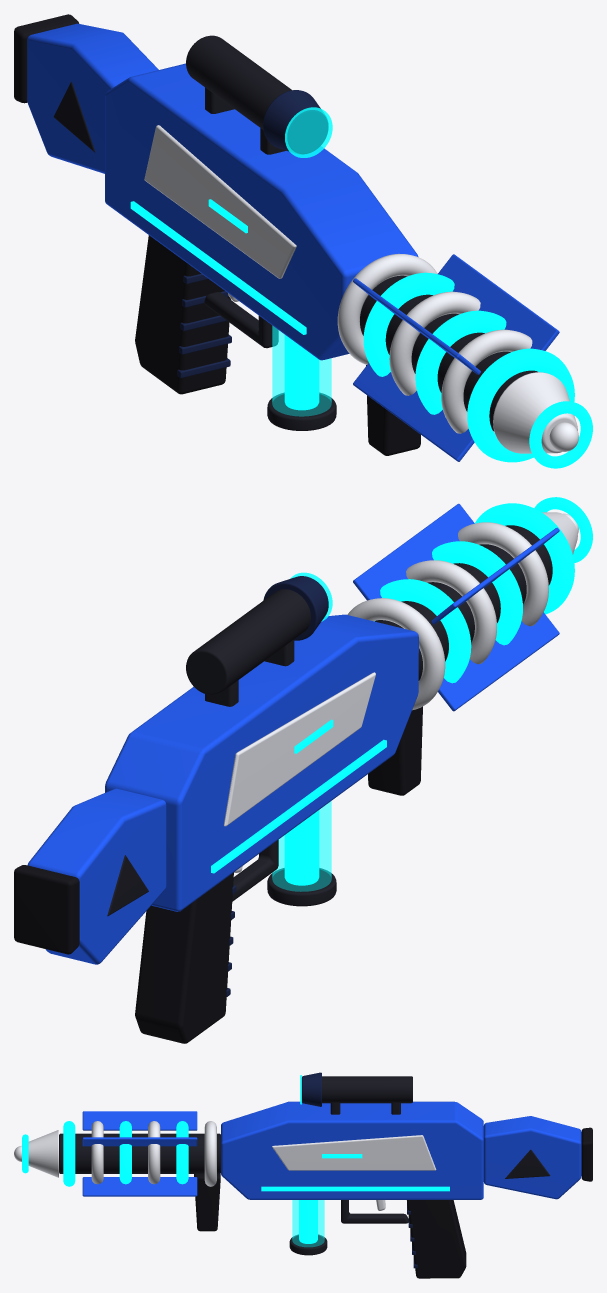
The model's file is SpaceShotgun.fbx.
3 renders of one model, top to bottom at view 1: azimuth 30°, elevation 25°; view 2: azimuth 150°, elevation 25°; view 3: azimuth 270°, elevation 25°, orthographic. The views are drawn at different scales.
Parts seen in each view (by area): view 1: SpaceShotgun_Pro_Plastic_Blue, SpaceShotgun_Pro_Plastic_White, SpaceShotgun_Pro_Glow_cyan_12, SpaceShotgun_Pro_Plastic_Dark, SpaceShotgun_Pro_Rubber_Grip, SpaceShotgun_Pro_Plastic_Navy, SpaceShotgun_Pro_Glass_cyan_0.35, SpaceShotgun_Pro_Glass_cyan_0.6, SpaceShotgun_Pro_Glow_white_14; view 2: SpaceShotgun_Pro_Plastic_Blue, SpaceShotgun_Pro_Rubber_Grip, SpaceShotgun_Pro_Plastic_White, SpaceShotgun_Pro_Glow_cyan_12, SpaceShotgun_Pro_Plastic_Dark, SpaceShotgun_Pro_Glass_cyan_0.35, SpaceShotgun_Pro_Plastic_Navy; view 3: SpaceShotgun_Pro_Plastic_Blue, SpaceShotgun_Pro_Plastic_Dark, SpaceShotgun_Pro_Plastic_White, SpaceShotgun_Pro_Rubber_Grip, SpaceShotgun_Pro_Glow_cyan_12, SpaceShotgun_Pro_Glass_cyan_0.35, SpaceShotgun_Pro_Plastic_Navy.
Boxes of the visible parts, <box> form: SpaceShotgun_Pro_Plastic_Blue: <box>27,23,559,461</box>; SpaceShotgun_Pro_Plastic_White: <box>144,125,577,453</box>; SpaceShotgun_Pro_Glow_cyan_12: <box>130,199,592,468</box>; SpaceShotgun_Pro_Plastic_Dark: <box>53,35,537,431</box>; SpaceShotgun_Pro_Rubber_Grip: <box>14,14,420,455</box>; SpaceShotgun_Pro_Plastic_Navy: <box>177,90,328,378</box>; SpaceShotgun_Pro_Glass_cyan_0.35: <box>272,326,331,416</box>; SpaceShotgun_Pro_Glass_cyan_0.6: <box>285,107,332,157</box>; SpaceShotgun_Pro_Glow_white_14: <box>549,422,578,451</box>; SpaceShotgun_Pro_Plastic_Blue: <box>27,503,559,964</box>; SpaceShotgun_Pro_Rubber_Grip: <box>14,706,422,1043</box>; SpaceShotgun_Pro_Plastic_White: <box>223,512,577,872</box>; SpaceShotgun_Pro_Glow_cyan_12: <box>211,497,592,885</box>; SpaceShotgun_Pro_Plastic_Dark: <box>107,525,552,916</box>; SpaceShotgun_Pro_Glass_cyan_0.35: <box>272,801,331,891</box>; SpaceShotgun_Pro_Plastic_Navy: <box>226,576,328,996</box>; SpaceShotgun_Pro_Plastic_Blue: <box>82,1101,581,1199</box>; SpaceShotgun_Pro_Plastic_Dark: <box>59,1076,550,1255</box>; SpaceShotgun_Pro_Plastic_White: <box>28,1121,436,1210</box>; SpaceShotgun_Pro_Rubber_Grip: <box>194,1127,592,1278</box>; SpaceShotgun_Pro_Glow_cyan_12: <box>22,1121,449,1243</box>; SpaceShotgun_Pro_Glass_cyan_0.35: <box>292,1200,324,1246</box>; SpaceShotgun_Pro_Plastic_Navy: <box>302,1072,417,1268</box>.
Size of the model in its own units: 0.098 by 0.3256 by 0.859.
